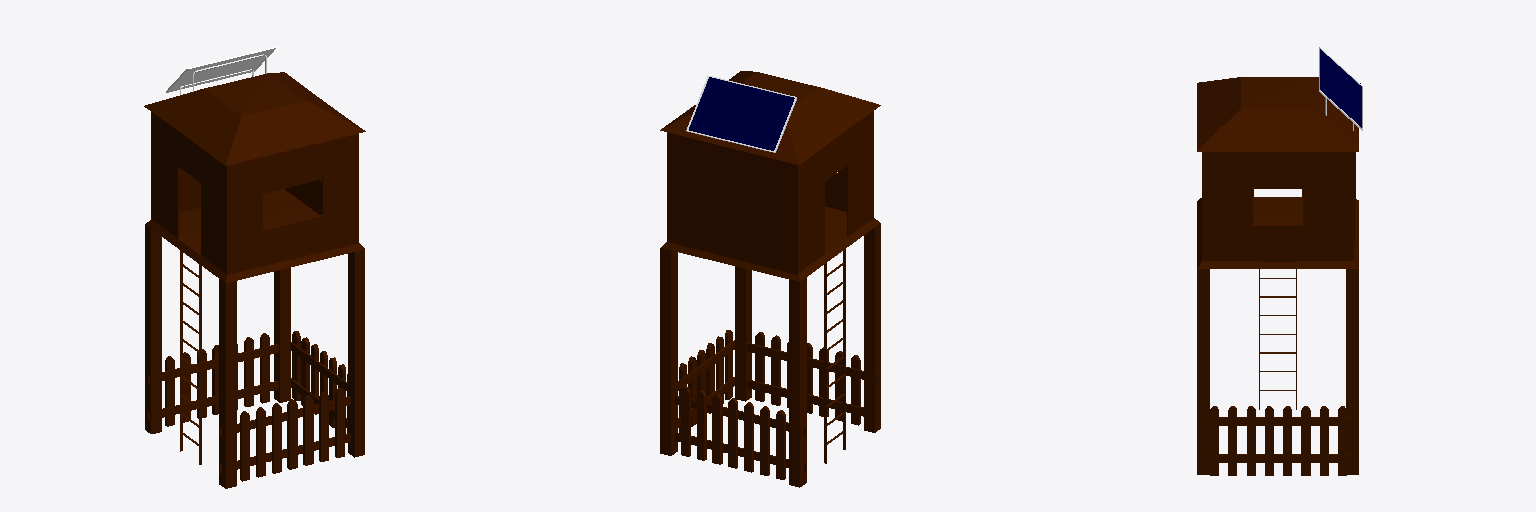
The model's file is Wood_Tower.obj.
3 views of the same model, side by side, from view 1: azimuth 30°, elevation 25°; view 2: azimuth 150°, elevation 25°; view 3: azimuth 270°, elevation 25° (orthographic).
Visible parts, largest first — view 1: Cube.033_Cube.020; view 2: Cube.033_Cube.020; view 3: Cube.033_Cube.020.
Part boxes in pixels (x1,y1,x2,y2): Cube.033_Cube.020: (144,46,365,488); Cube.033_Cube.020: (660,71,880,487); Cube.033_Cube.020: (1197,47,1362,475).
Bounding box in the file's own units: 2.73 × 6.56 × 2.67.